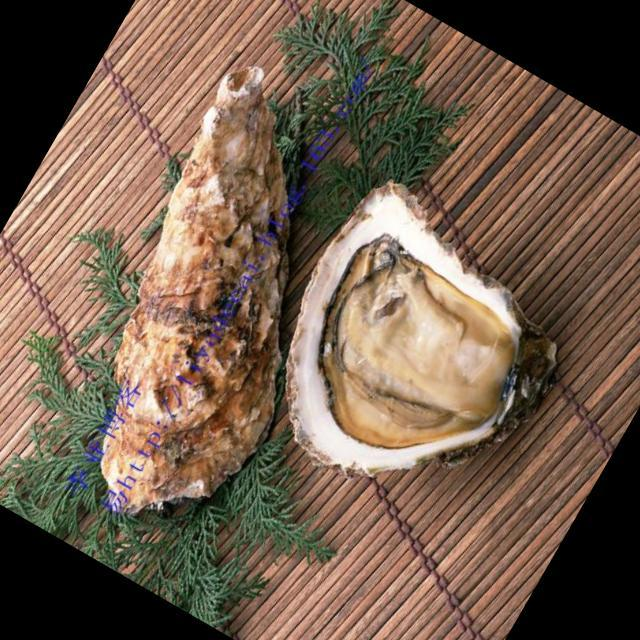Oyster- Indeterminate: (101, 66, 288, 512)
Oyster-Open: (289, 184, 558, 473)
